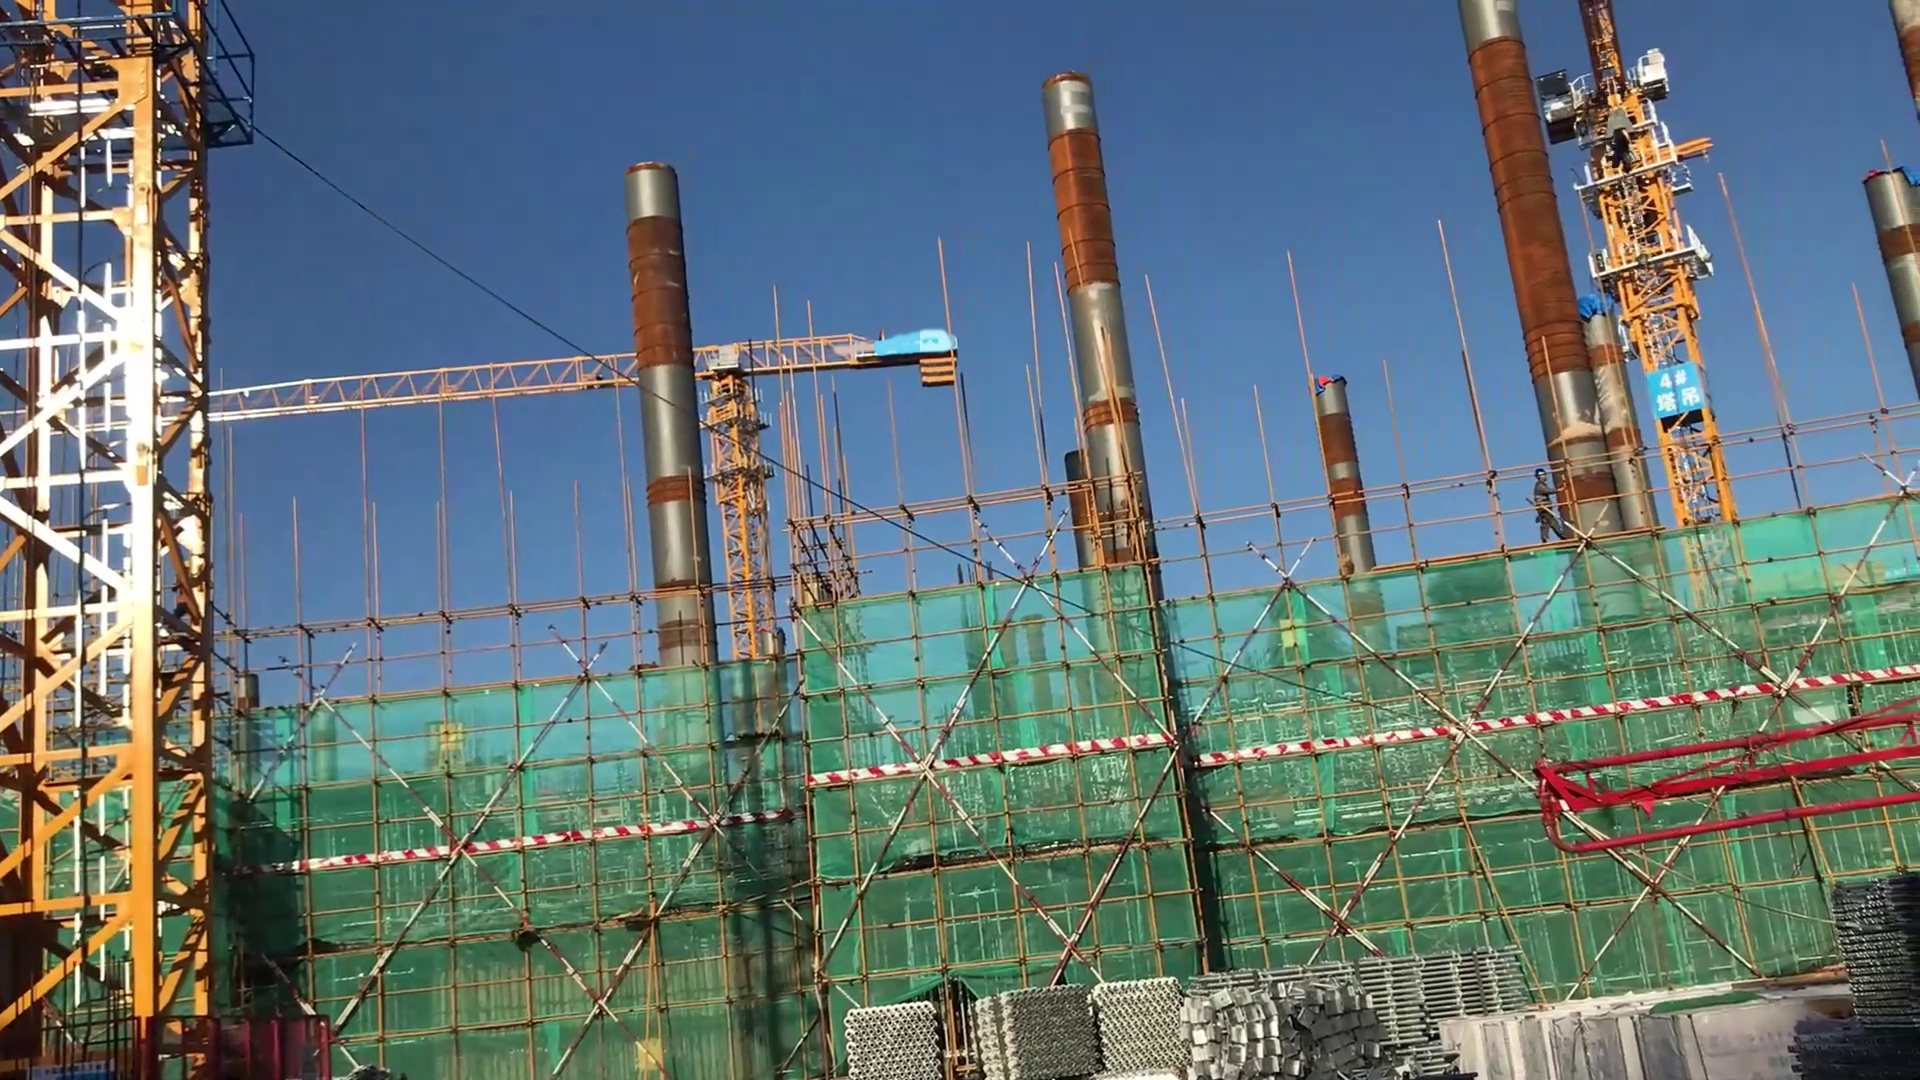scaffold: (971, 949, 1193, 1080), (1367, 945, 1524, 1080), (1815, 858, 1920, 1033), (825, 964, 953, 1080)
